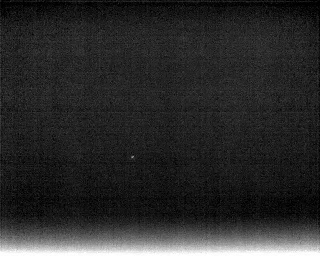AIRPLANE: (129, 152, 136, 161)
